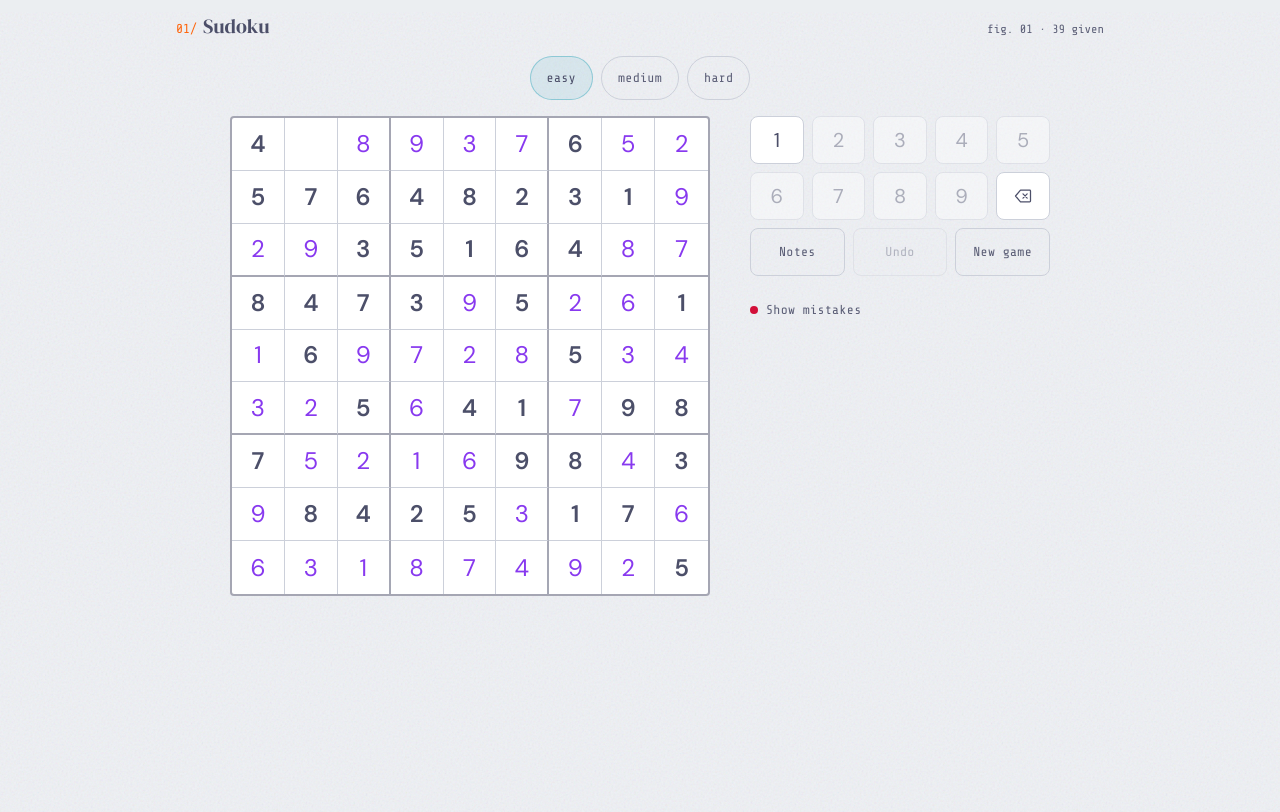
Scenario: persistence, timer, panels › cancelling the new-game panel after solving returns to the Solved panel
Click the cell named "Row 1, column 2, empty": {"x": 311, "y": 144} [285,118,338,171]
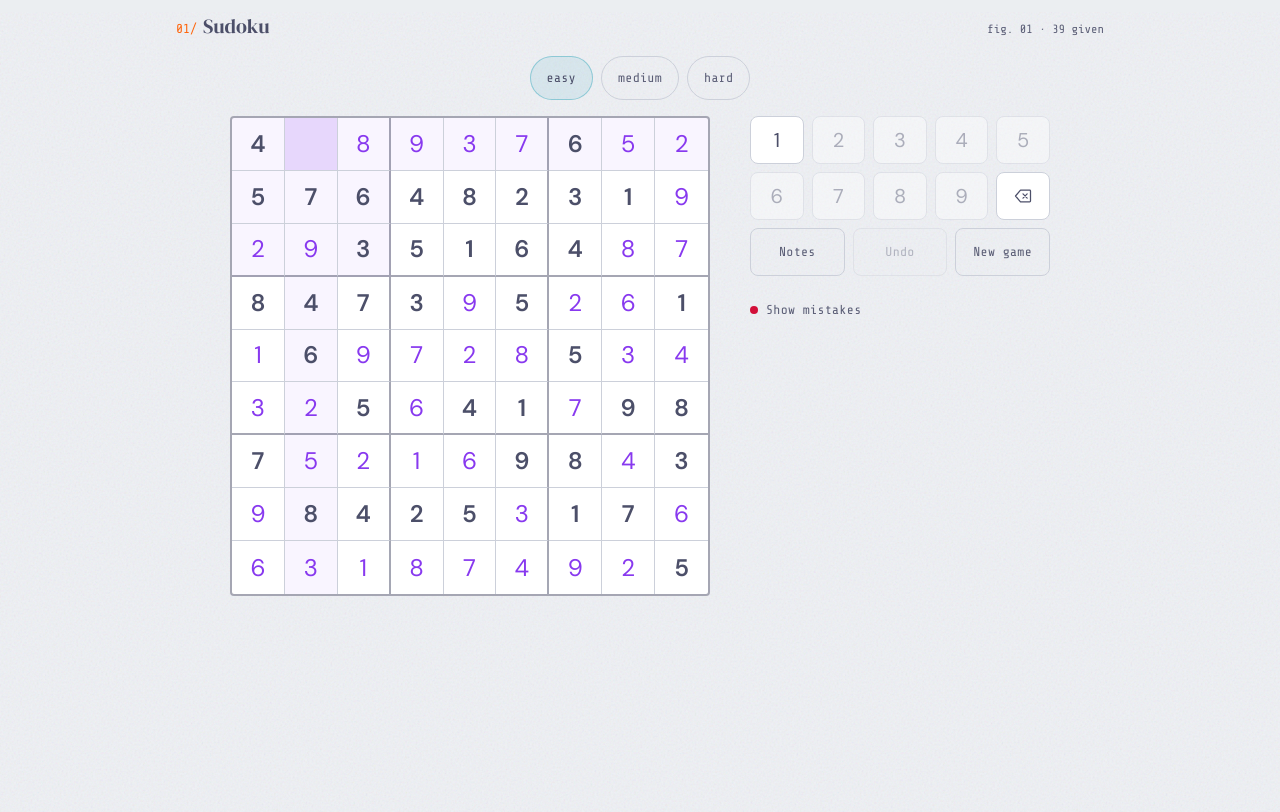
Click the button "1": {"x": 777, "y": 140} [750,116,804,164]
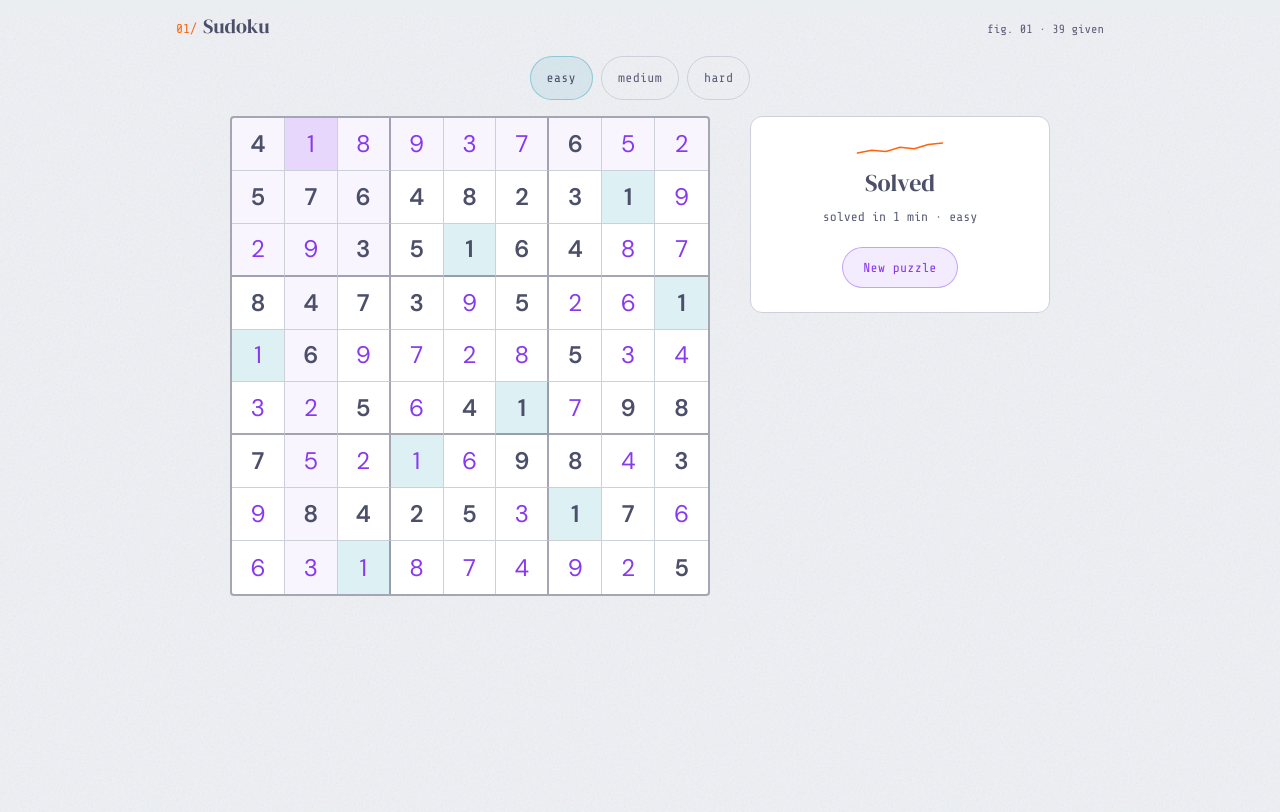
Now the heading "Solved" is shown, box [865,166,935,199]
Click the button "New puzzle": {"x": 900, "y": 267} [842,246,958,288]
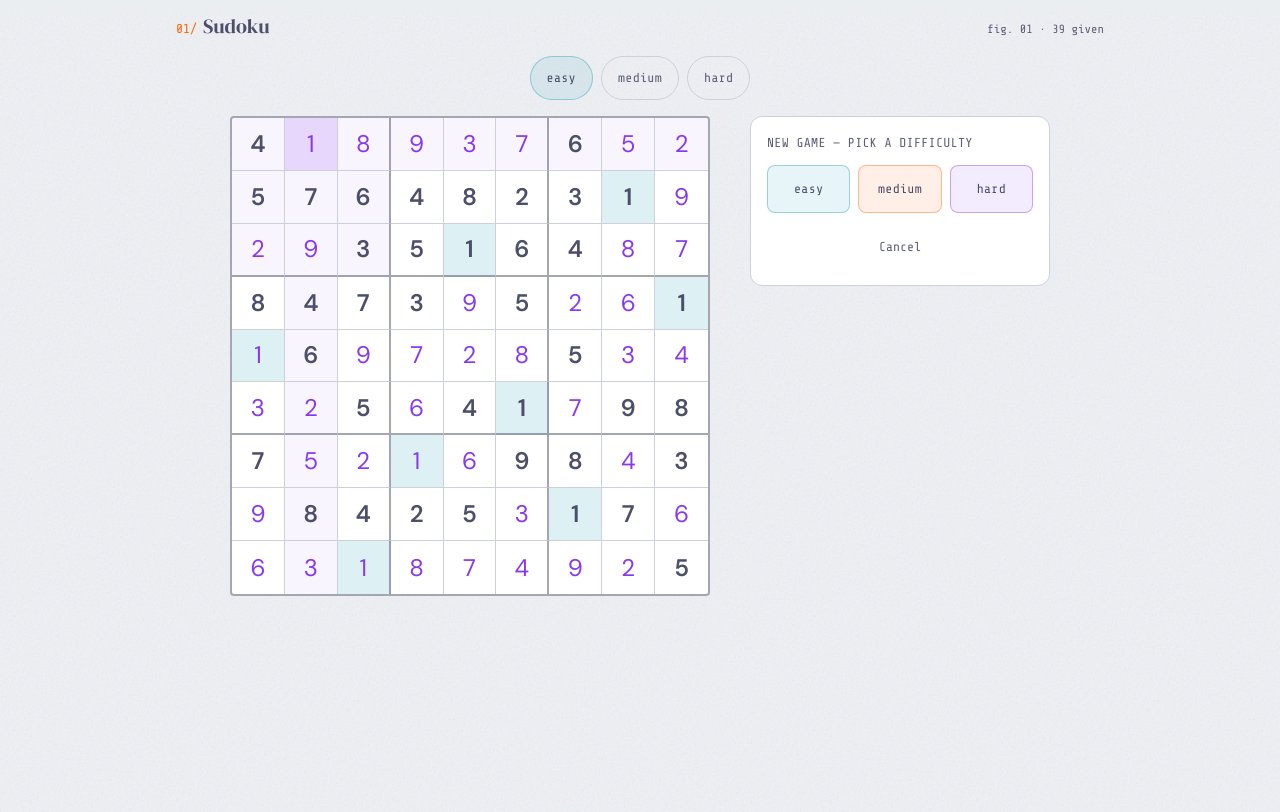
Now the button "Cancel" is shown
Click the button "Cancel": {"x": 900, "y": 246} [767,224,1033,268]
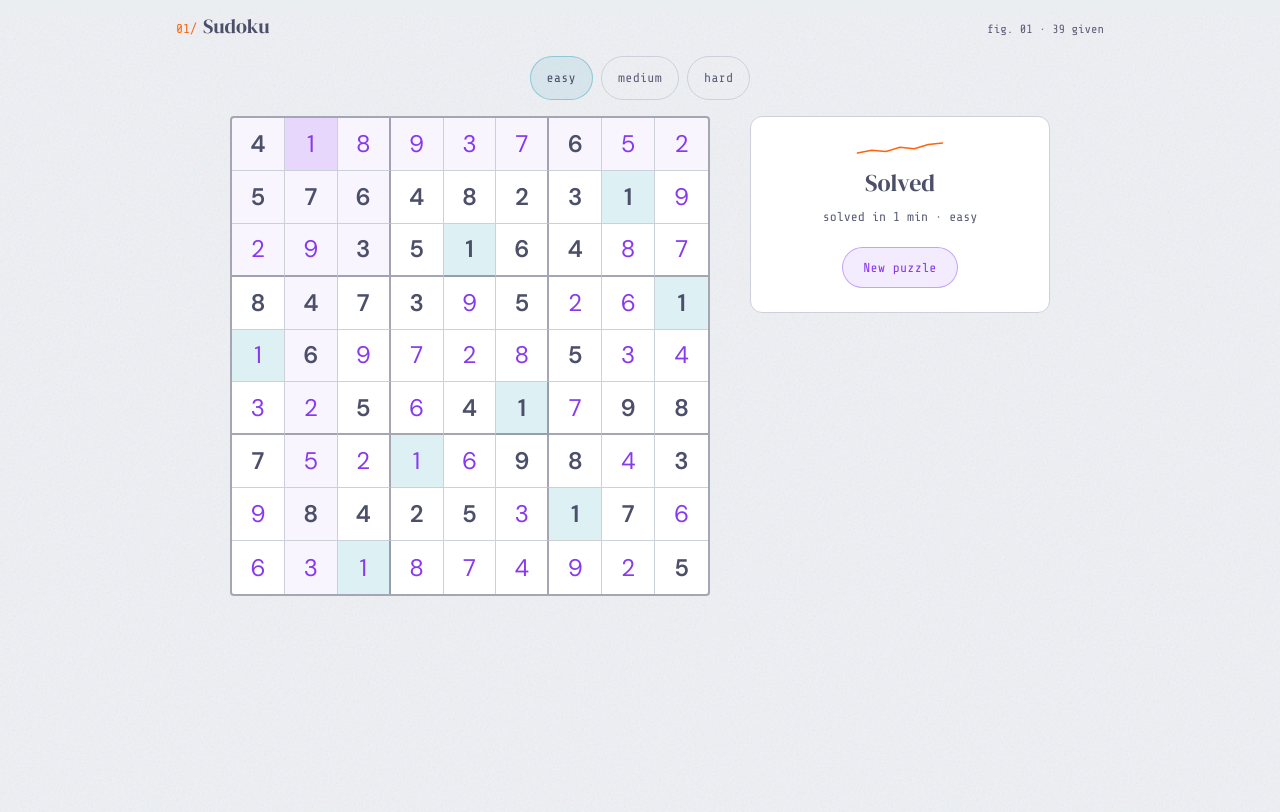
Now the heading "Solved" is shown, box [865,166,935,199]
